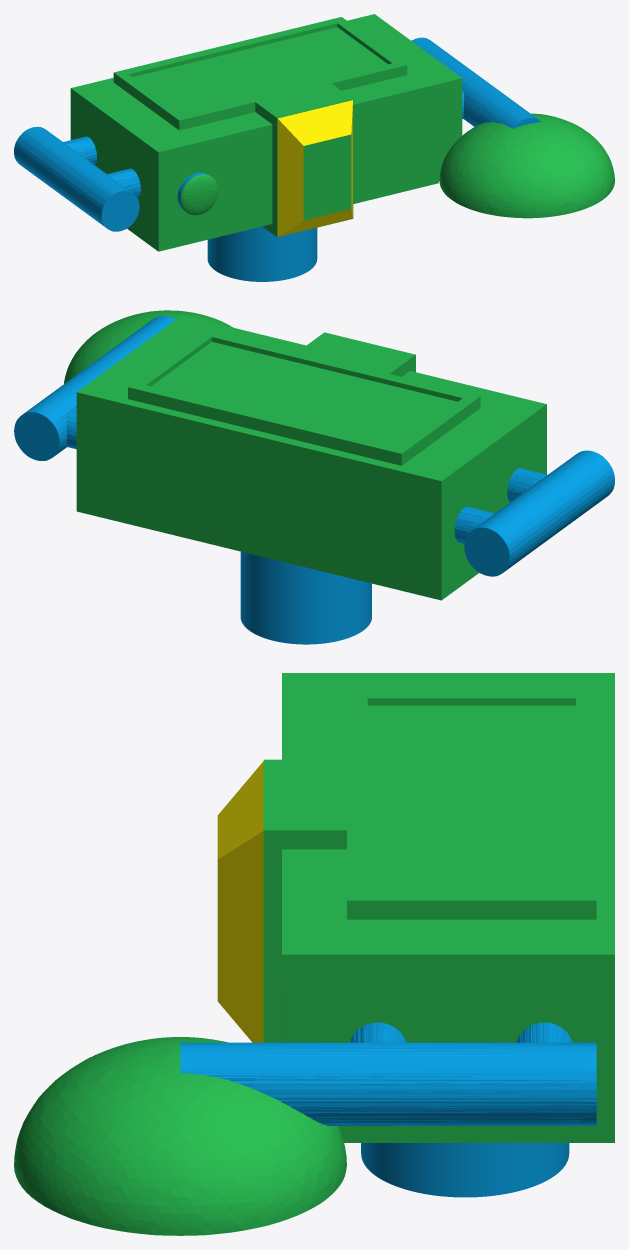
Rendered from AP_PresseKamera.obj.
3 views of the same model, one above another, from view 1: azimuth 30°, elevation 25°; view 2: azimuth 150°, elevation 25°; view 3: azimuth 270°, elevation 25° (orthographic). The views are drawn at different scales.
Parts seen in each view (by area): view 1: Object.2, Object.1; view 2: Object.2, Object.1; view 3: Object.2, Object.1.
Boxes of the visible parts, bbox=[...] form: Object.2: bbox=[14, 14, 614, 251]; Object.1: bbox=[207, 226, 317, 281]; Object.2: bbox=[14, 310, 614, 600]; Object.1: bbox=[240, 551, 371, 644]; Object.2: bbox=[14, 673, 614, 1235]; Object.1: bbox=[361, 1143, 569, 1197].
Size of the model in its own units: 125 by 47.5 by 72.2.
